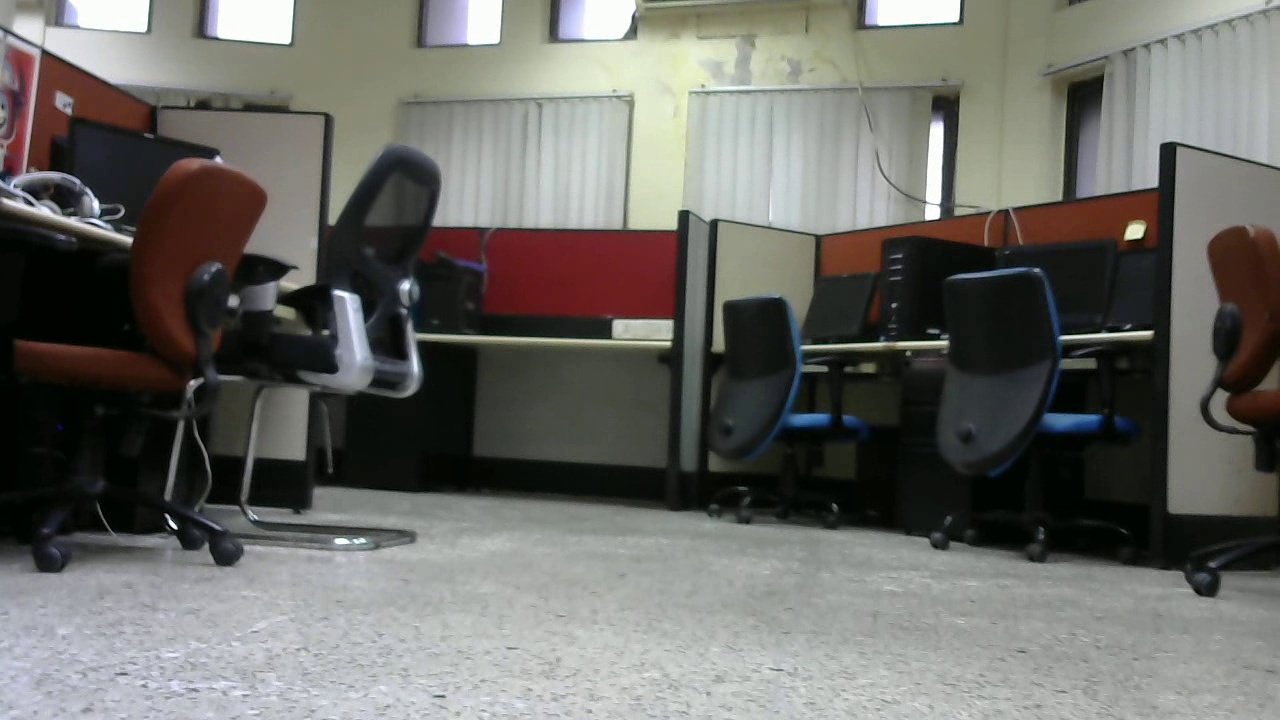chair: (23, 150, 278, 574), (918, 266, 1140, 578), (283, 139, 446, 544), (697, 292, 886, 533)
